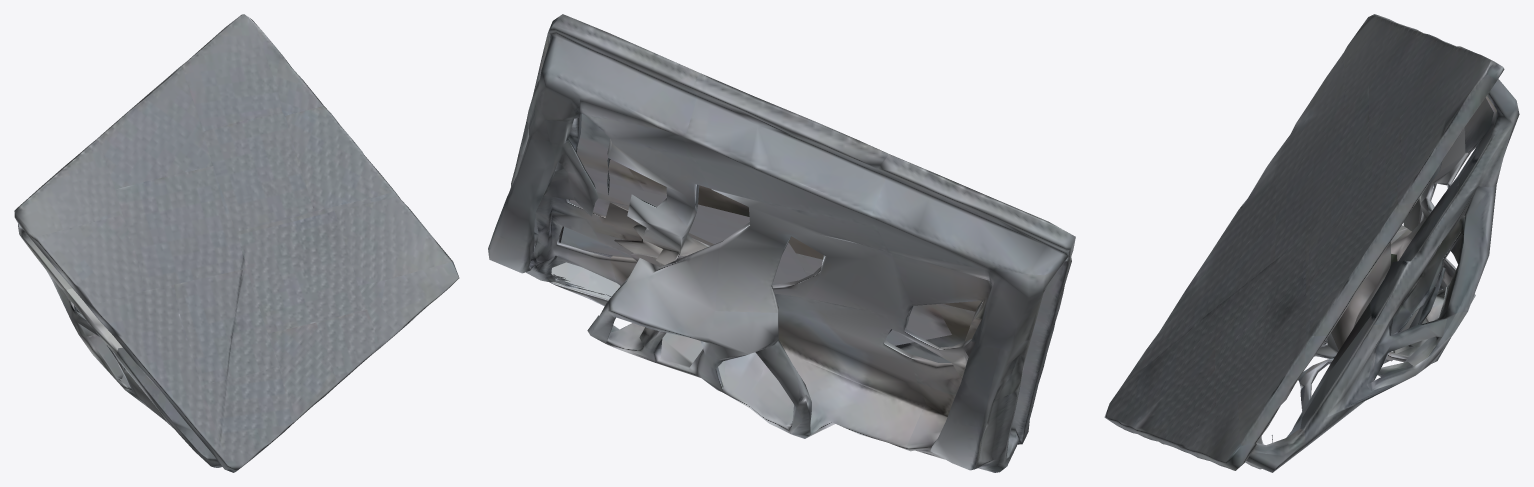
Rendered from technology-13.glb.
The picture shows the model from 3 angles, left to right: view 1: azimuth 30°, elevation 25°; view 2: azimuth 150°, elevation 25°; view 3: azimuth 270°, elevation 25°; orthographic projection. The views are drawn at different scales.
Size of the model in its own units: 1.85 by 1.49 by 1.19.
1 material, 1 textured.
